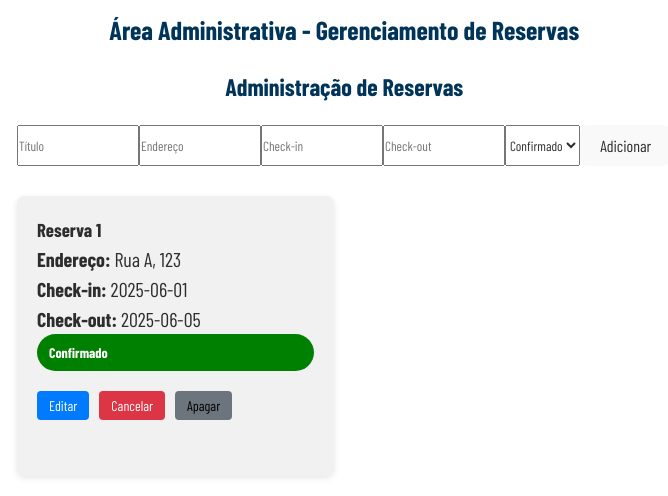
AdminReservationCrud › deve excluir uma reserva
expect the heading "Reserva 1" is shown: met, box [37,218,101,241]
Click the button "Apagar": (204, 405) [175,391,232,420]
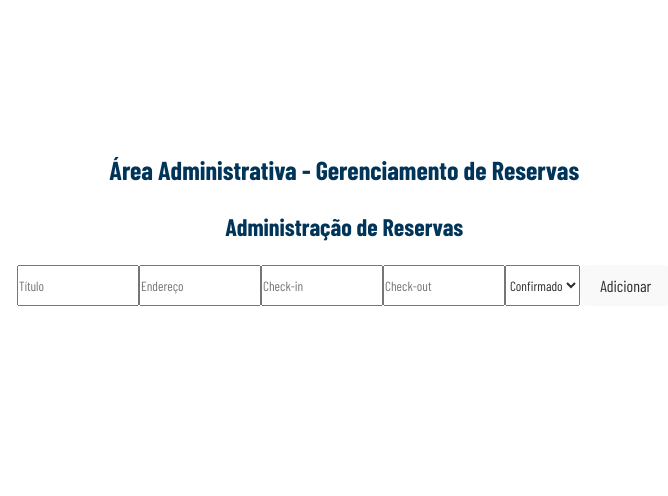
expect the heading "Reserva 1" is gone: met
